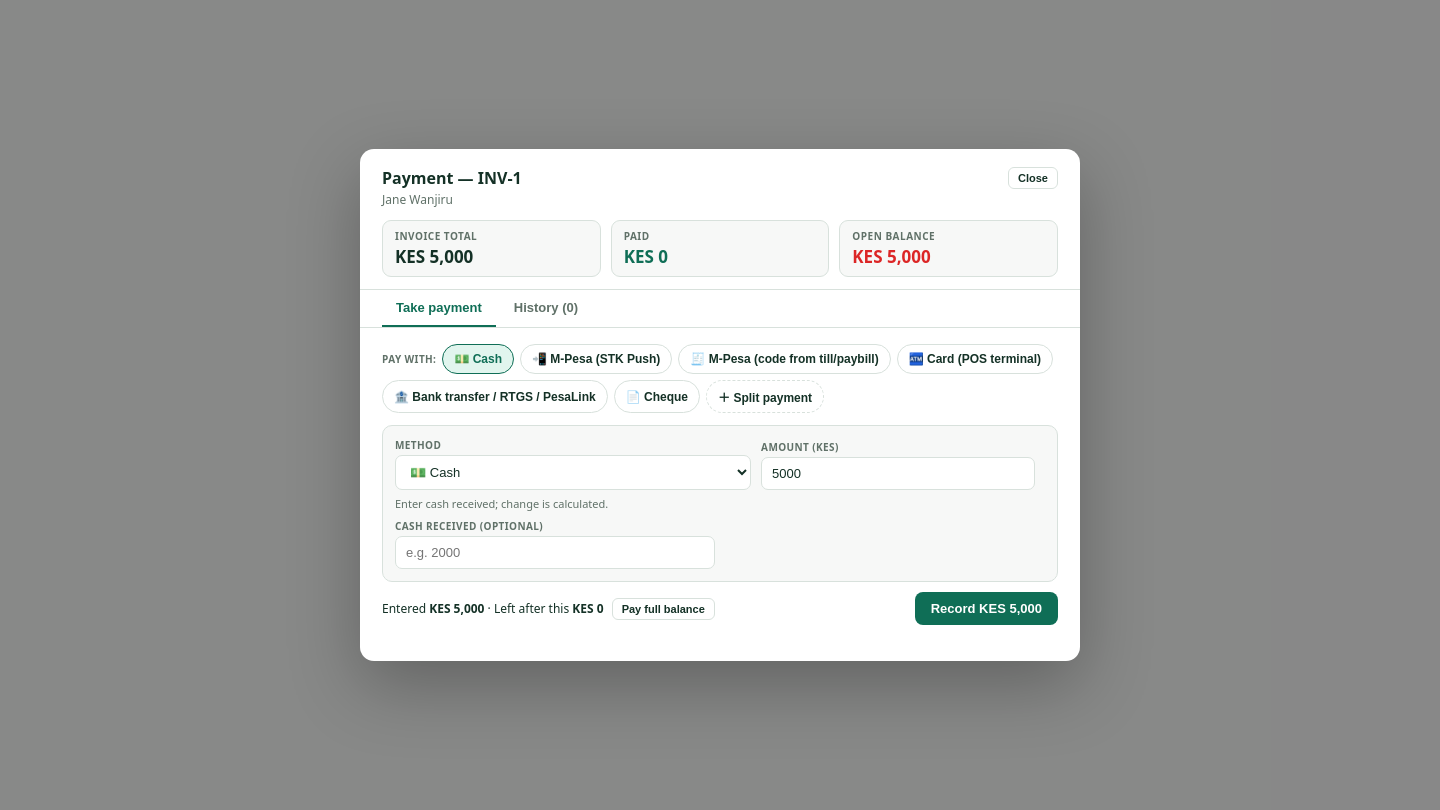
Test: PaymentModal › prefills the open balance and records a cash payment
The image size is (1440, 810).
Expected: the field with placeholder "0" holds "5000", [761,457,1035,490]
Click the button "Record KES 5,000".
click(986, 608)  # box [915,592,1058,625]
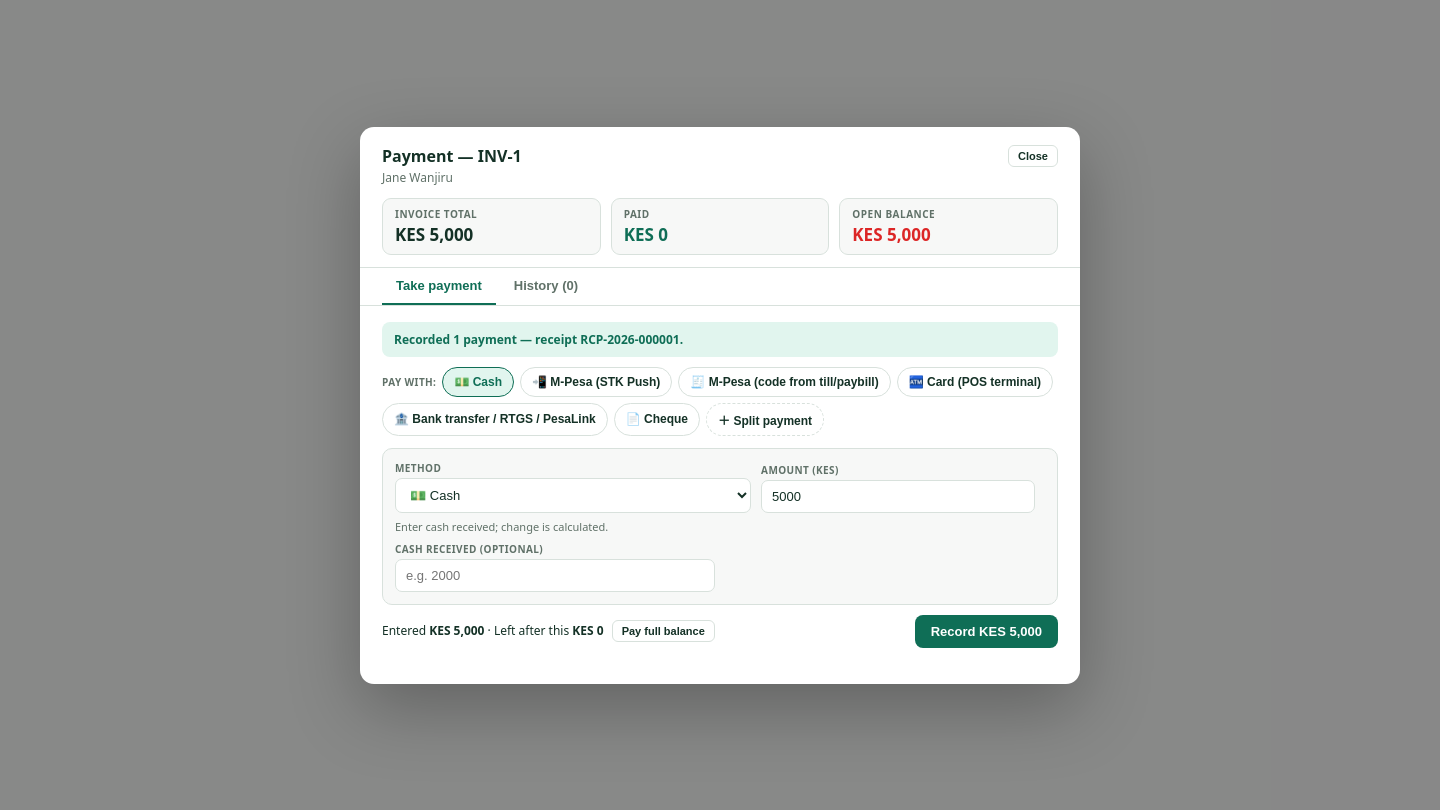
Now the text "Recorded 1 payment — receipt RCP-2026-000001." is shown, box [382,322,1058,356]
